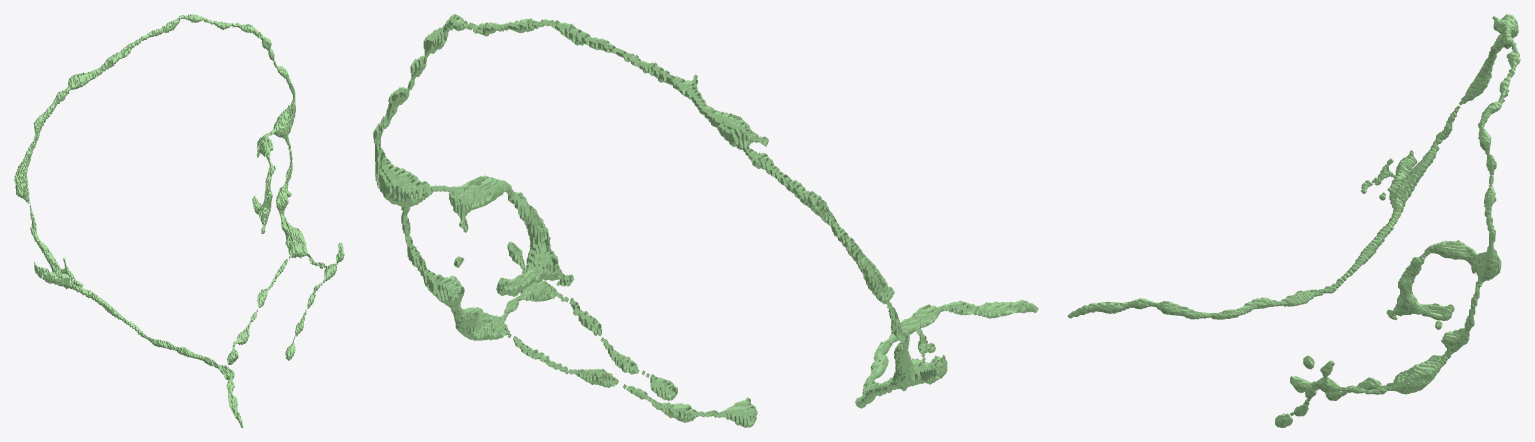
File: SVV_RMFL.gltf
The picture shows the model from 3 angles, left to right: view 1: azimuth 30°, elevation 25°; view 2: azimuth 150°, elevation 25°; view 3: azimuth 270°, elevation 25°; orthographic projection. The views are drawn at different scales.
Visible parts, largest first — view 1: RMFL; view 2: RMFL; view 3: RMFL.
Boxes of the visible parts, bbox=[...] form: RMFL: bbox=[14, 14, 344, 427]; RMFL: bbox=[373, 14, 1038, 427]; RMFL: bbox=[1067, 14, 1520, 427].
Bounding box in the file's own units: 138792 × 129270 × 142267.
